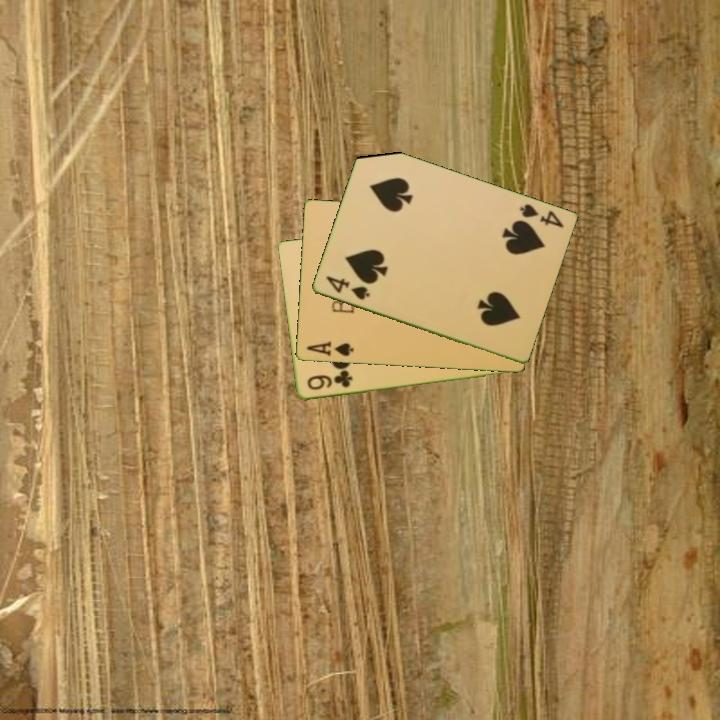4s: (322, 272, 372, 303), (516, 201, 566, 231)
9c: (303, 369, 355, 393)
As: (303, 338, 356, 359)
